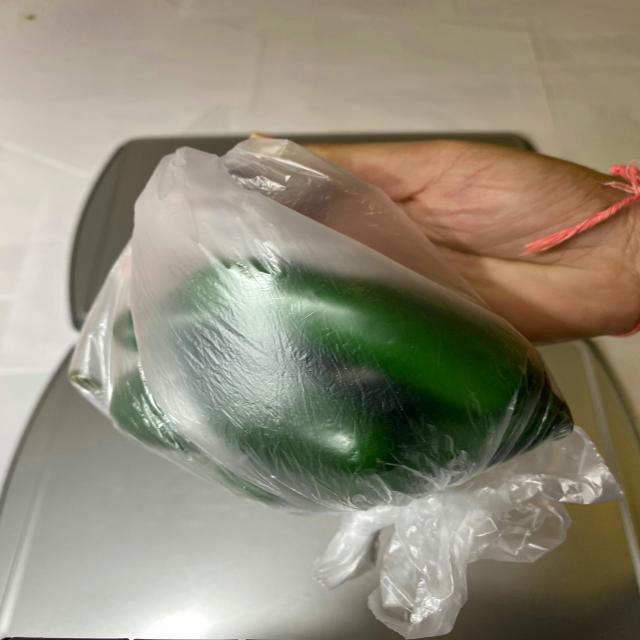chilli: (39, 239, 584, 510)
